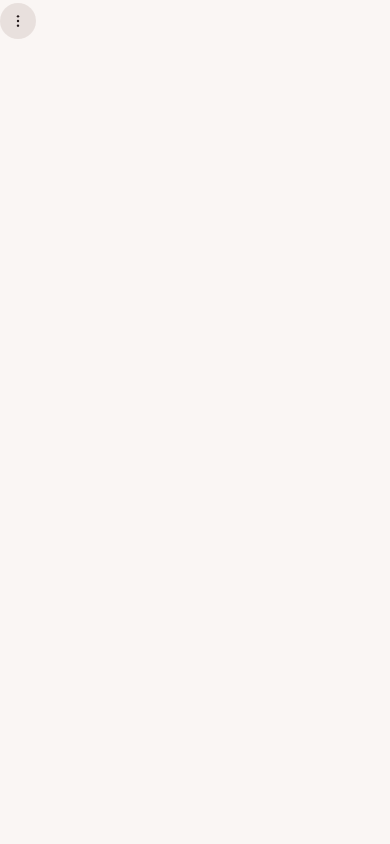
it: 1.11 — the short menu › Like adds the song to Liked songs, and the label turns into a remove
Click the button named "More options": click(18, 21) [0,3,36,39]
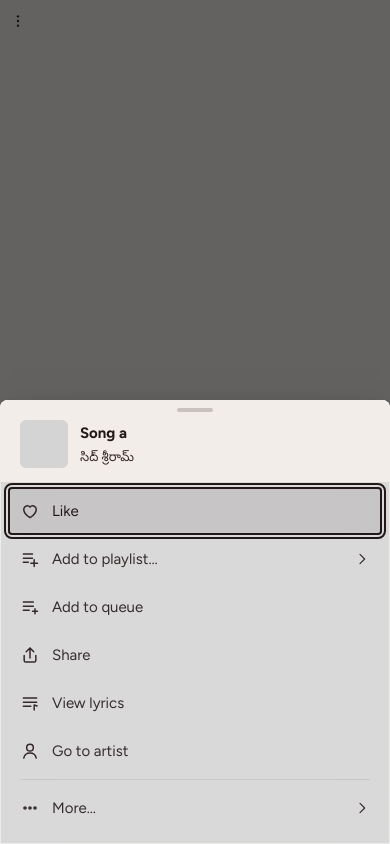
Click the menu item "Like": click(30, 511) [8,487,382,535]
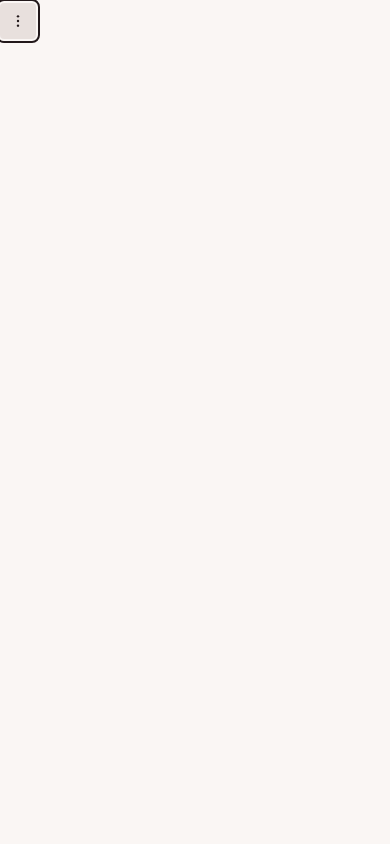
Click the button named "More options": click(18, 21) [0,3,36,39]
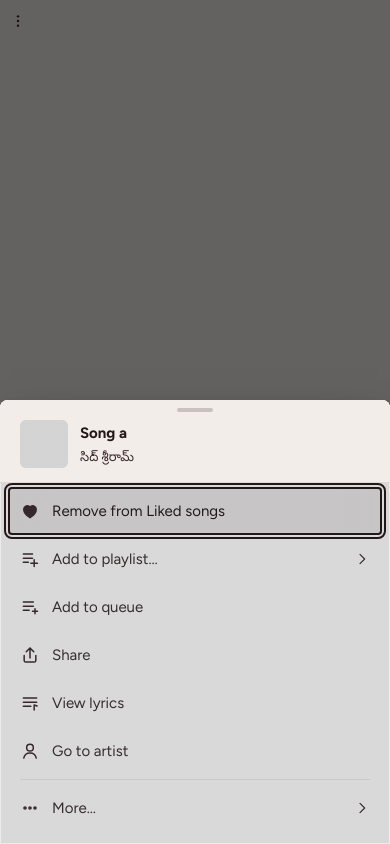
Now the menu item "Remove from Liked songs" is shown, box [8,487,382,535]
